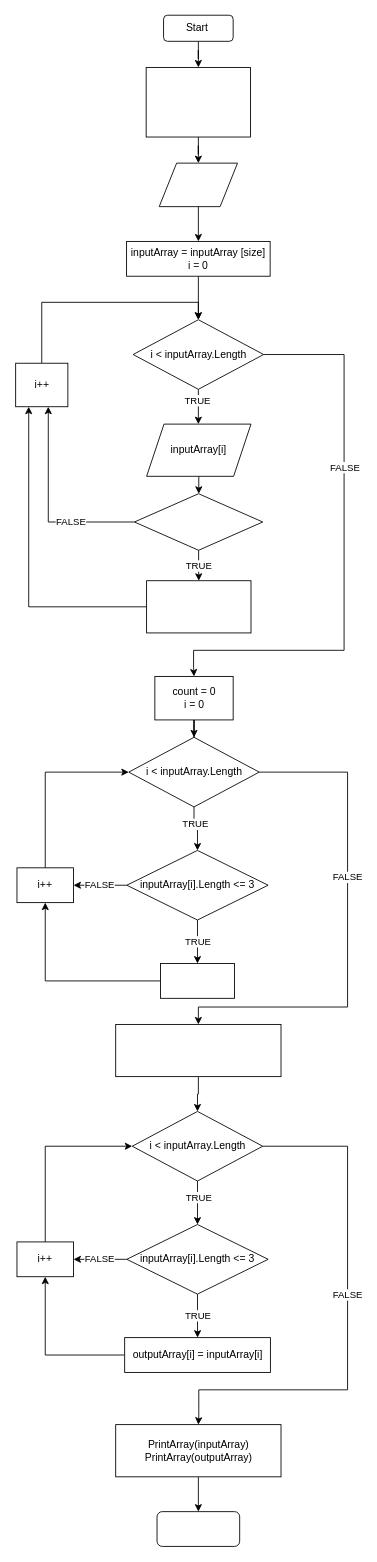
The diagram is 377 pixels wide and 1562 high, and some of its shapes have lost their labels. The shapes that lost their labels are listed below. From the top down, each one's centre as x and y in pixels, then its label:
point (198, 102): string[] inputArray string[] outputArray int size int count int i
point (198, 184): size
point (198, 521): inputArray[i] == null
point (198, 606): inputArray[i] = " "
point (197, 980): count++
point (198, 1050): outputArray = outputArray[count] i = 0
point (198, 1528): Finish
